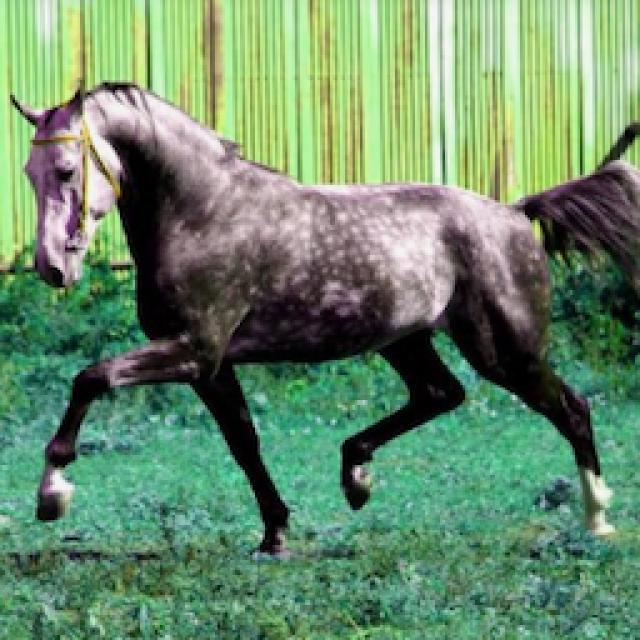Horse: (2, 72, 640, 562)
